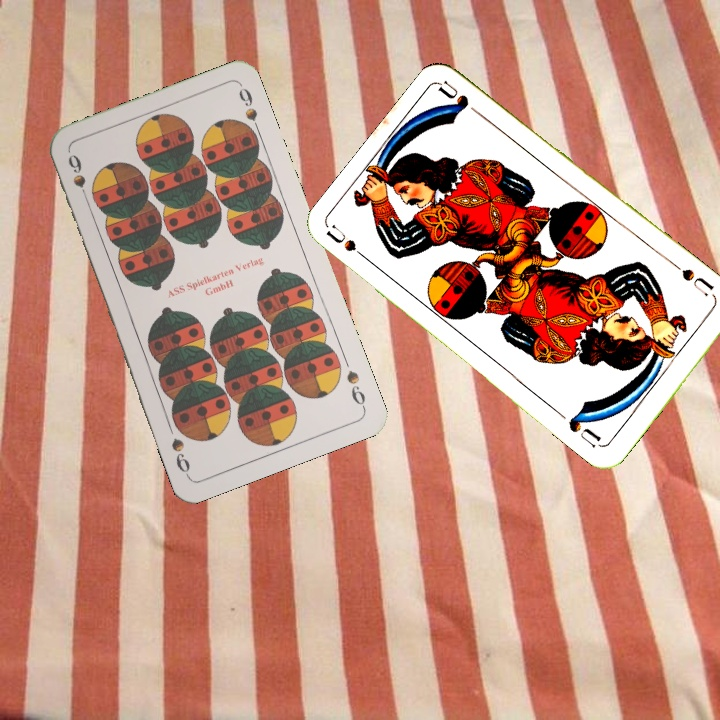S9: (63, 149, 92, 207), (342, 366, 368, 412)
SU: (323, 221, 376, 267), (677, 264, 716, 298)
